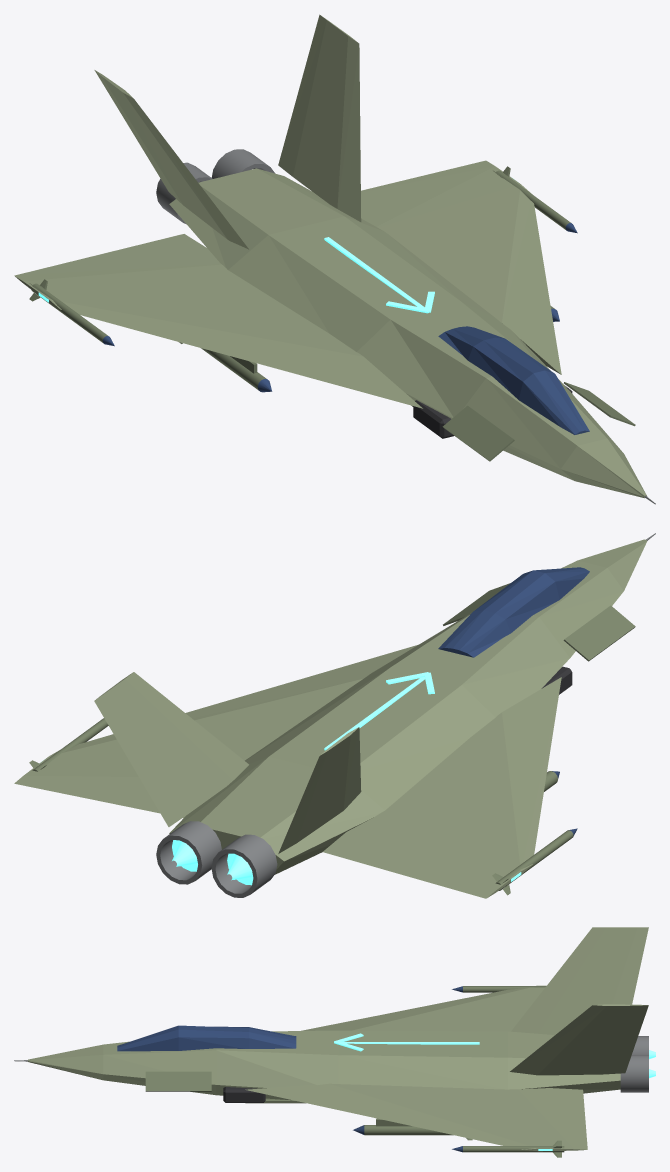
Rendered from jet_blue.glb.
The picture shows the model from 3 angles, top to bottom: view 1: azimuth 30°, elevation 25°; view 2: azimuth 150°, elevation 25°; view 3: azimuth 270°, elevation 25°; orthographic projection. The views are drawn at different scales.
Parts seen in each view (by area): view 1: body; view 2: body; view 3: body.
Boxes of the visible parts, <box> form: body: <box>14,14,655,504</box>; body: <box>14,533,655,898</box>; body: <box>14,927,655,1157</box>.
Bounding box in the file's own units: 8.31 × 2.89 × 13.65.
